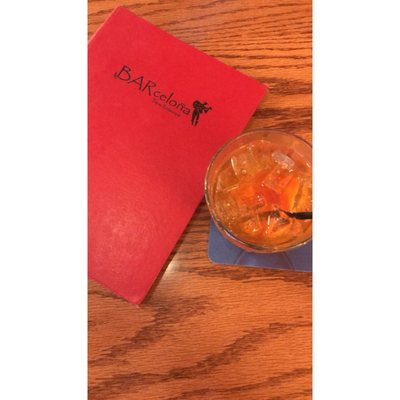sushi: (204, 131, 312, 254)
